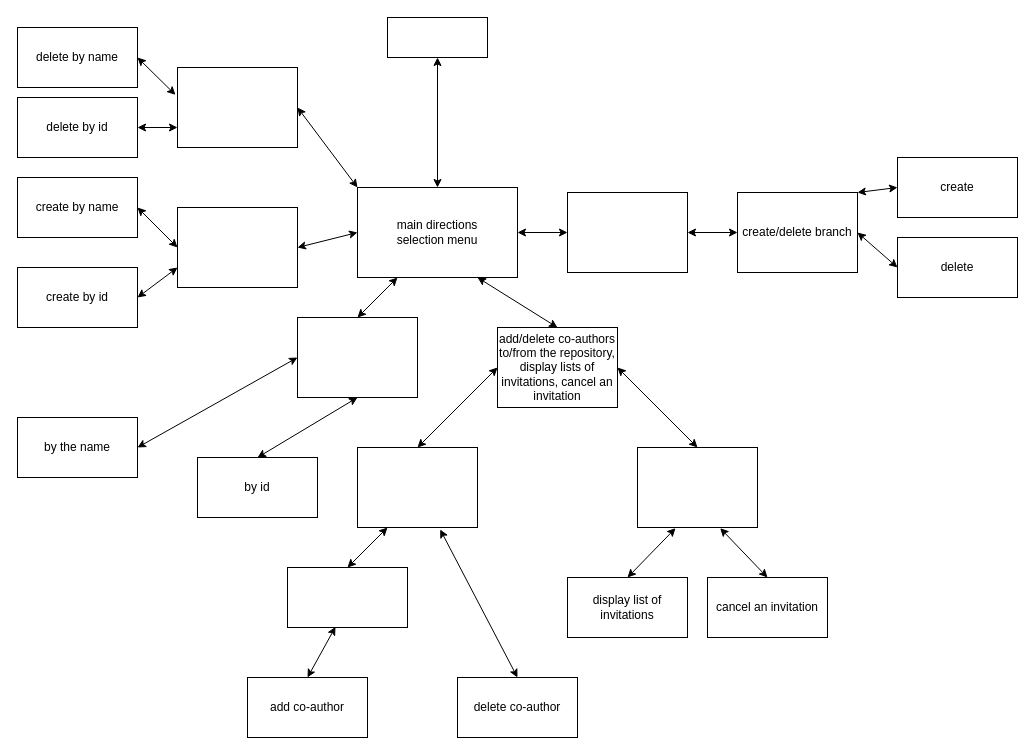
Image size: 1035x755. Some labels were removed from this diagram. The centre of each missing label's shape, as x and y in pixels:
create repository named /id: point (237, 247)
create/delete co-authors to/from repository: point (417, 487)
delete repository named/id: point (237, 107)
display/cancel invitations: point (697, 487)
enter the name of the repository to which you want to add a member: point (347, 597)
enter the name of the repository you want to add the branch to: point (627, 232)
enter your token: point (437, 37)
find repository named or id and return basic information: point (357, 357)
